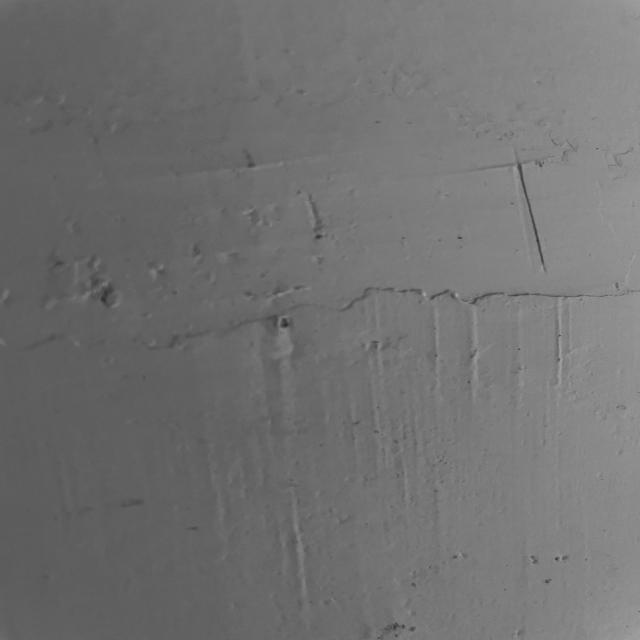rough and patchy surface: (30, 8, 617, 640)
